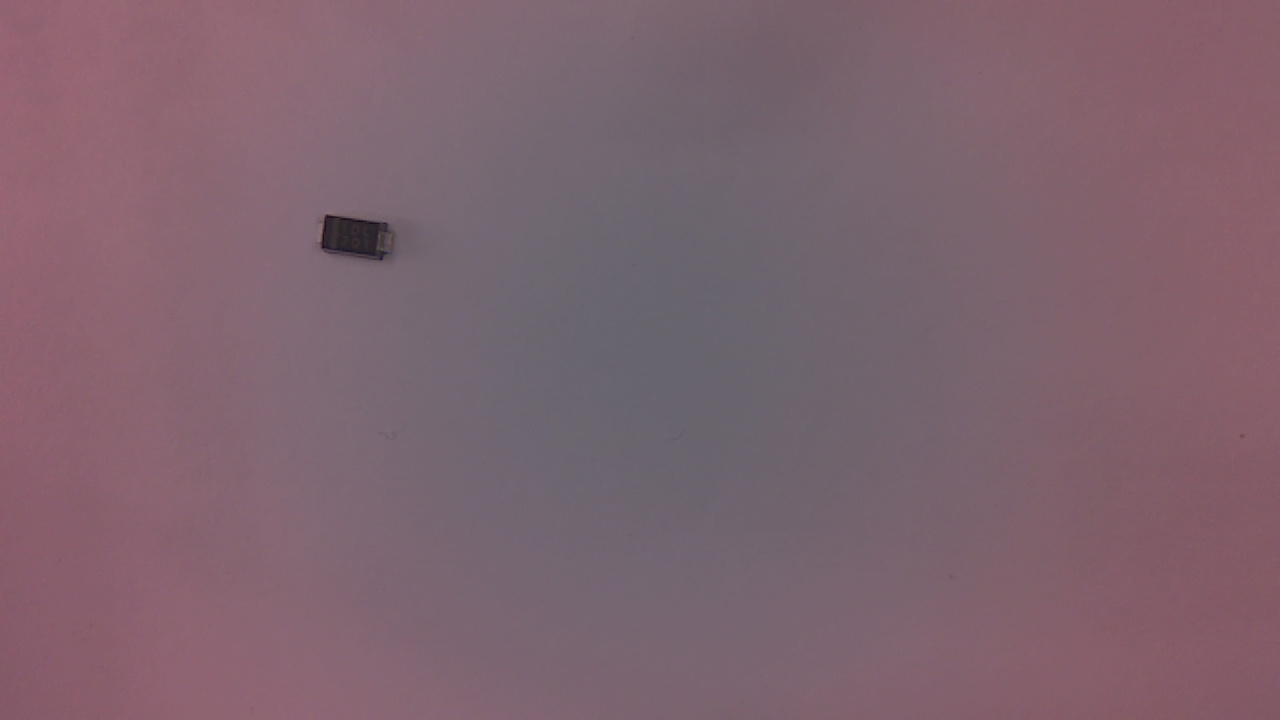Diode: (313, 218, 403, 266)
